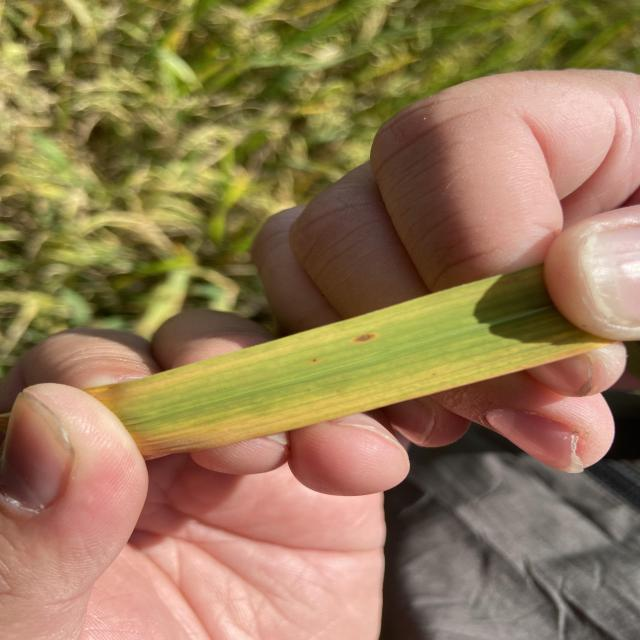Dom nau: (353, 333, 376, 343), (313, 359, 316, 361)
